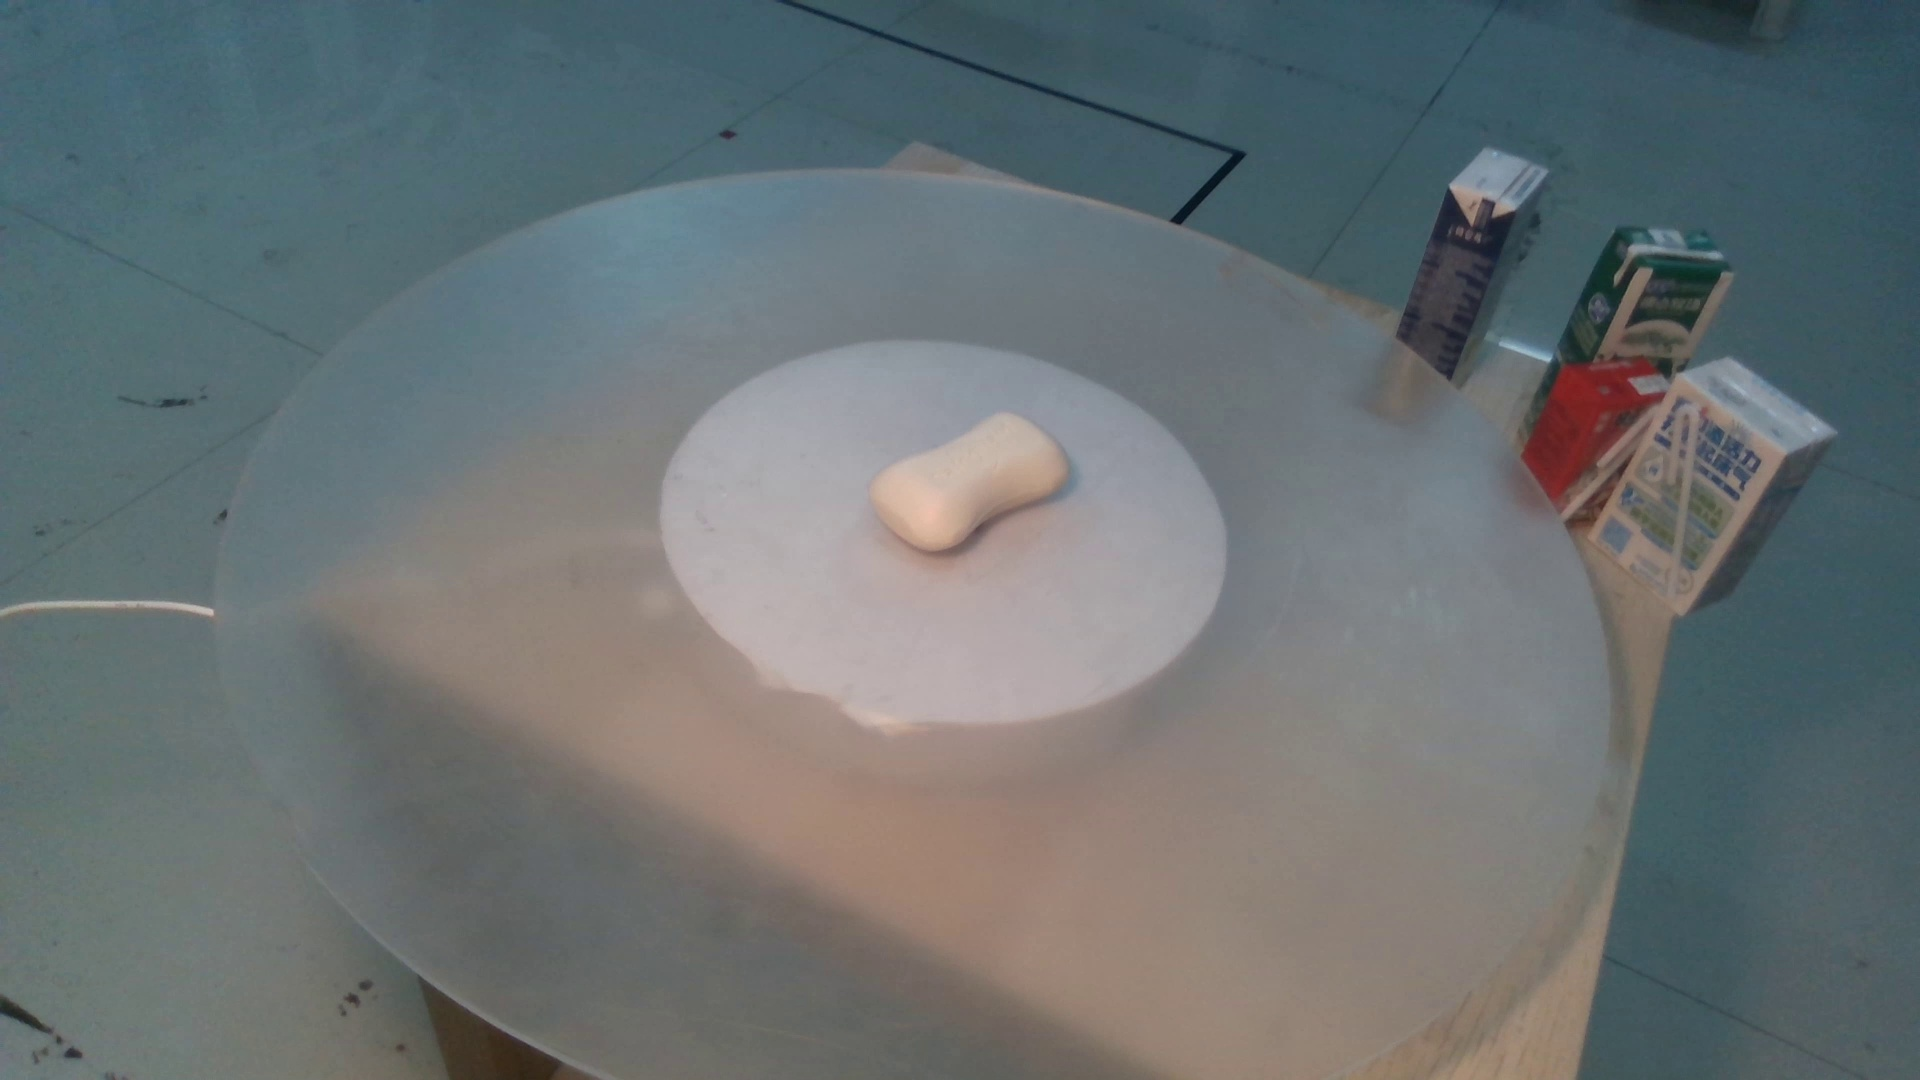CA003_1: (862, 393, 1125, 593)
